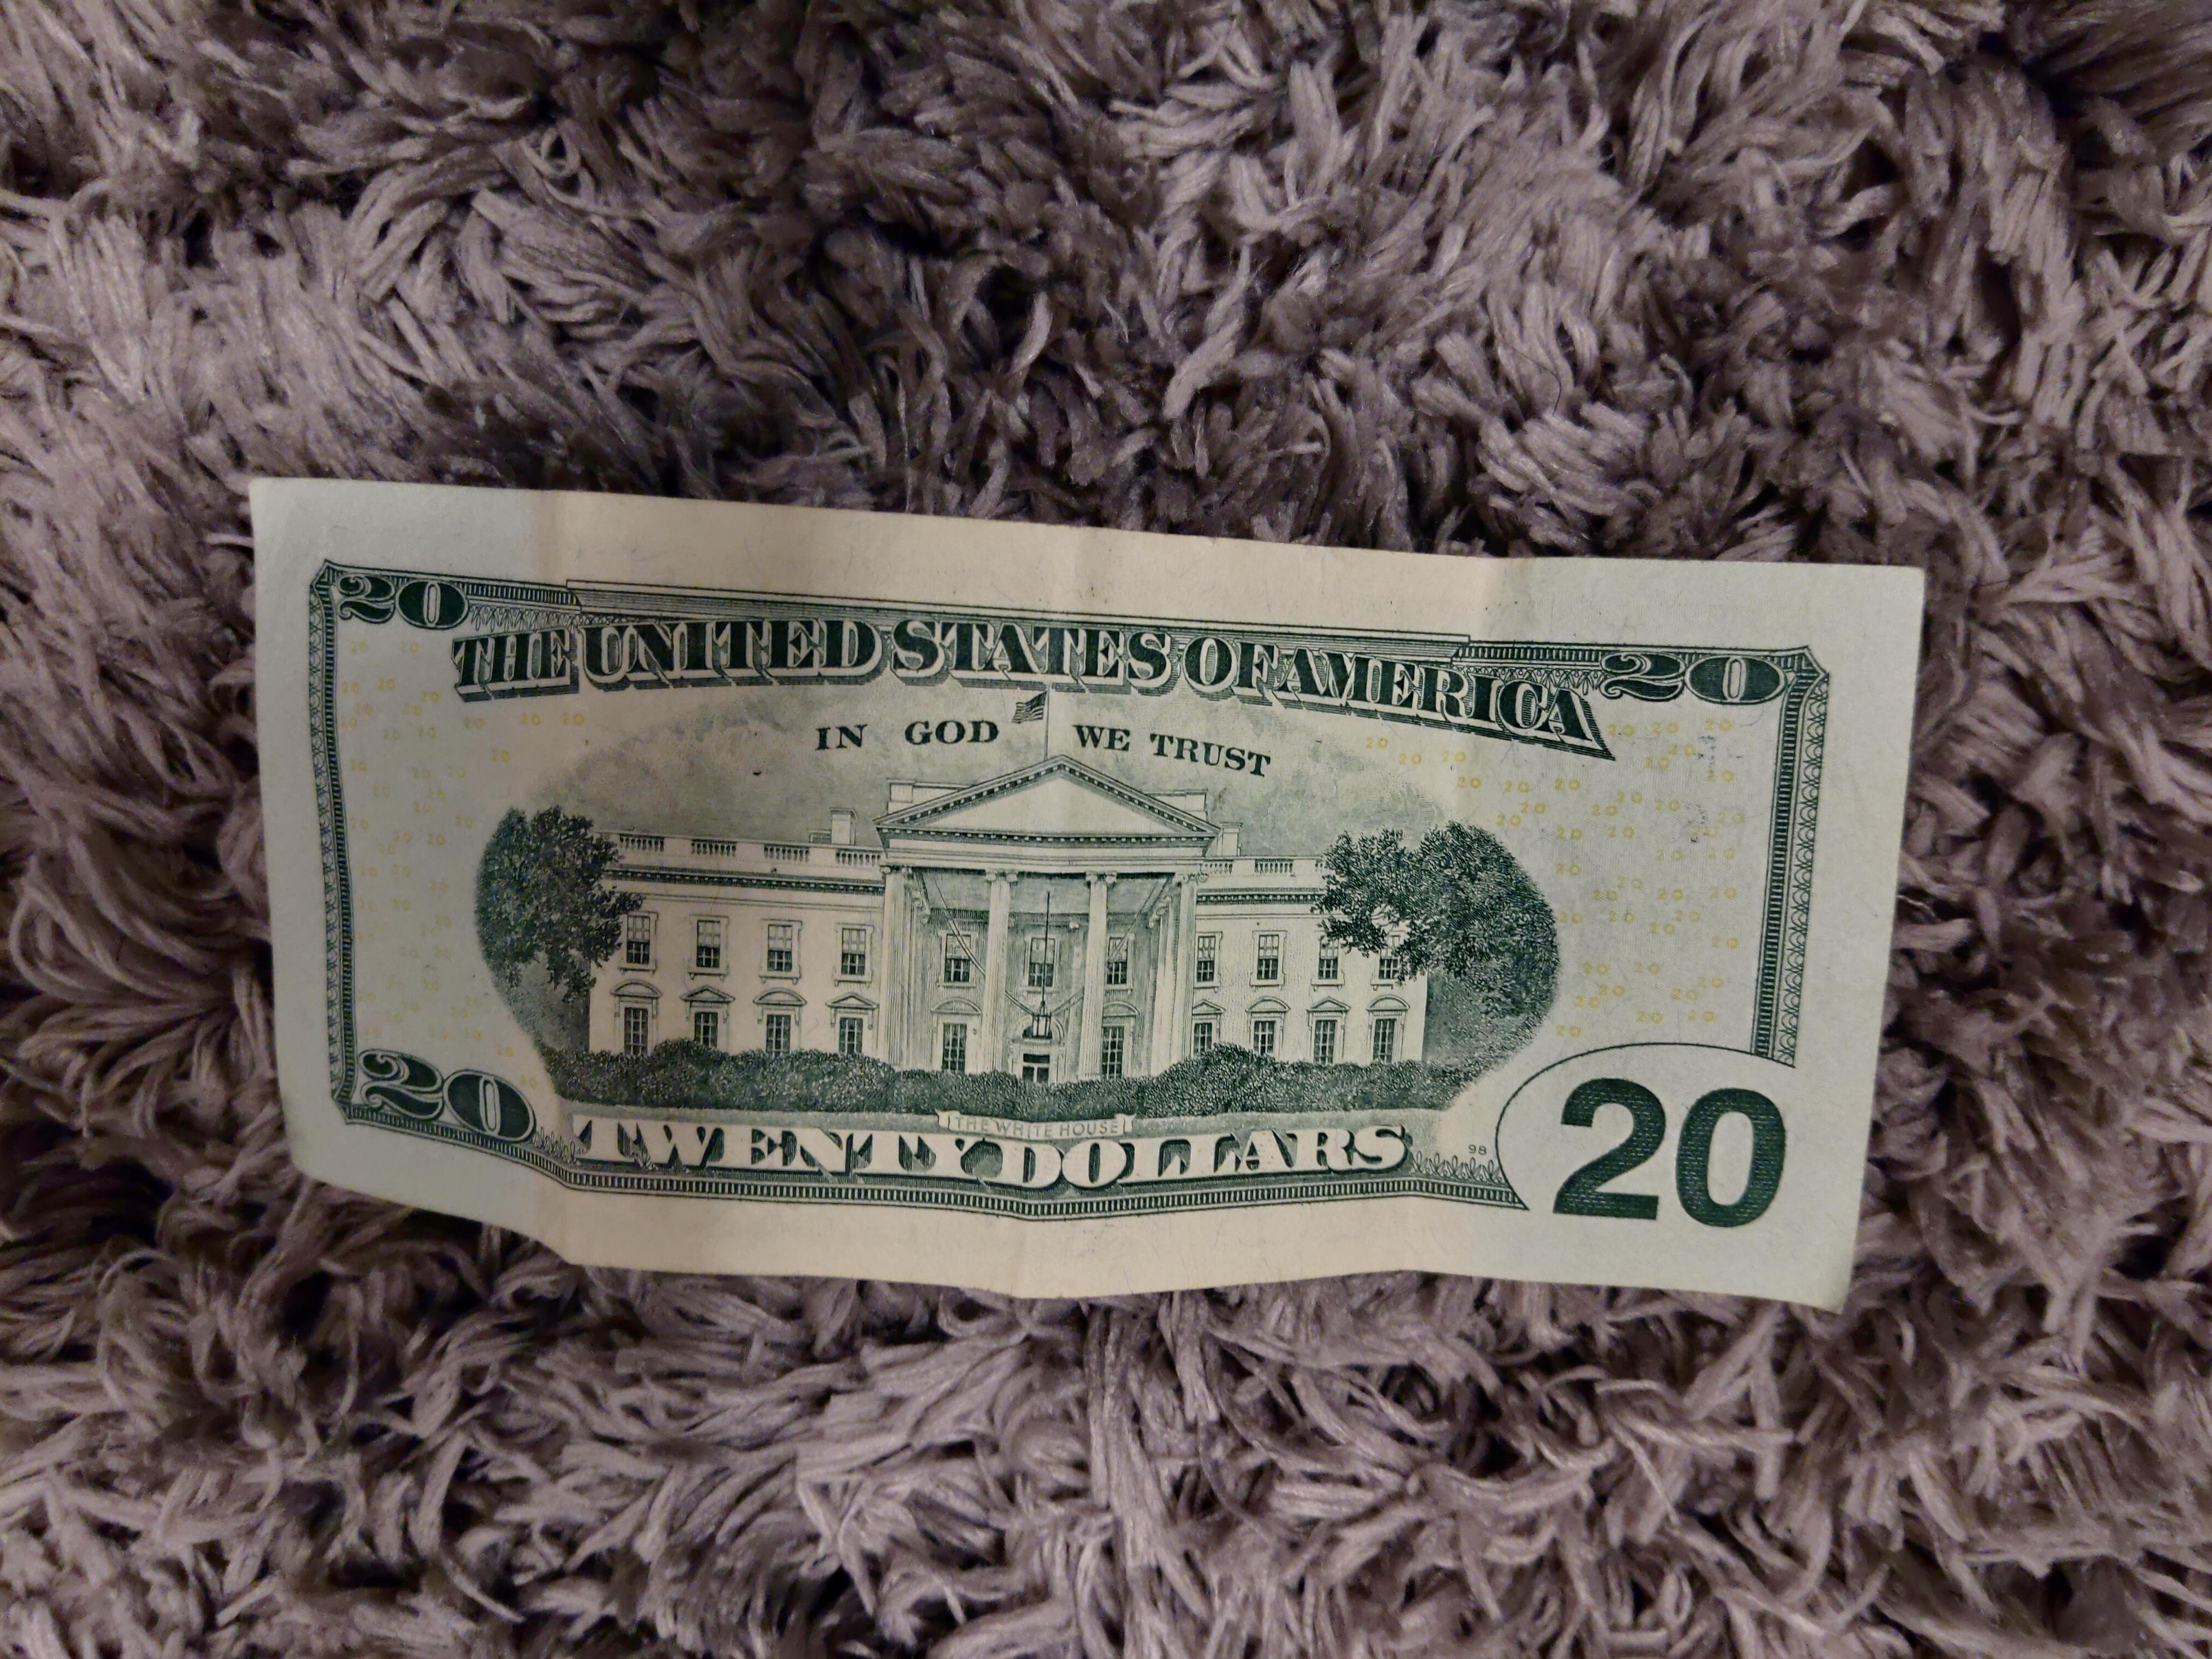TwentyBill: (244, 474, 1925, 1316)
